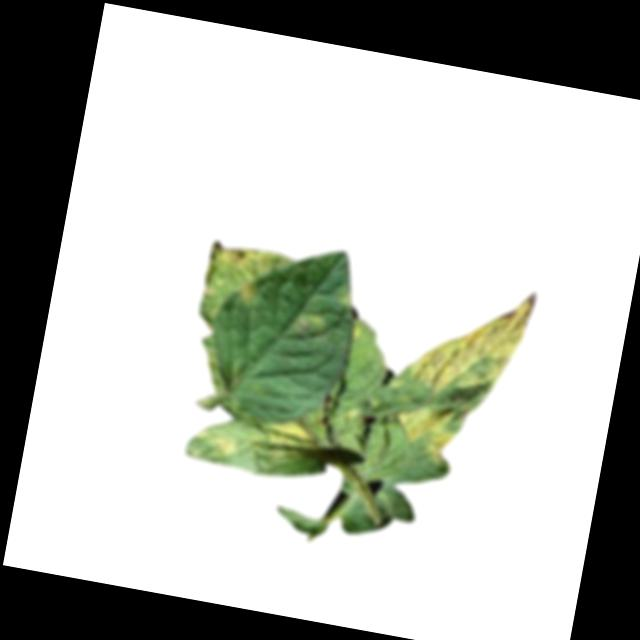Leaf_Mold: (404, 273, 539, 410), (389, 400, 464, 466), (205, 236, 286, 286), (261, 414, 318, 465), (184, 424, 242, 466), (239, 281, 258, 305)
